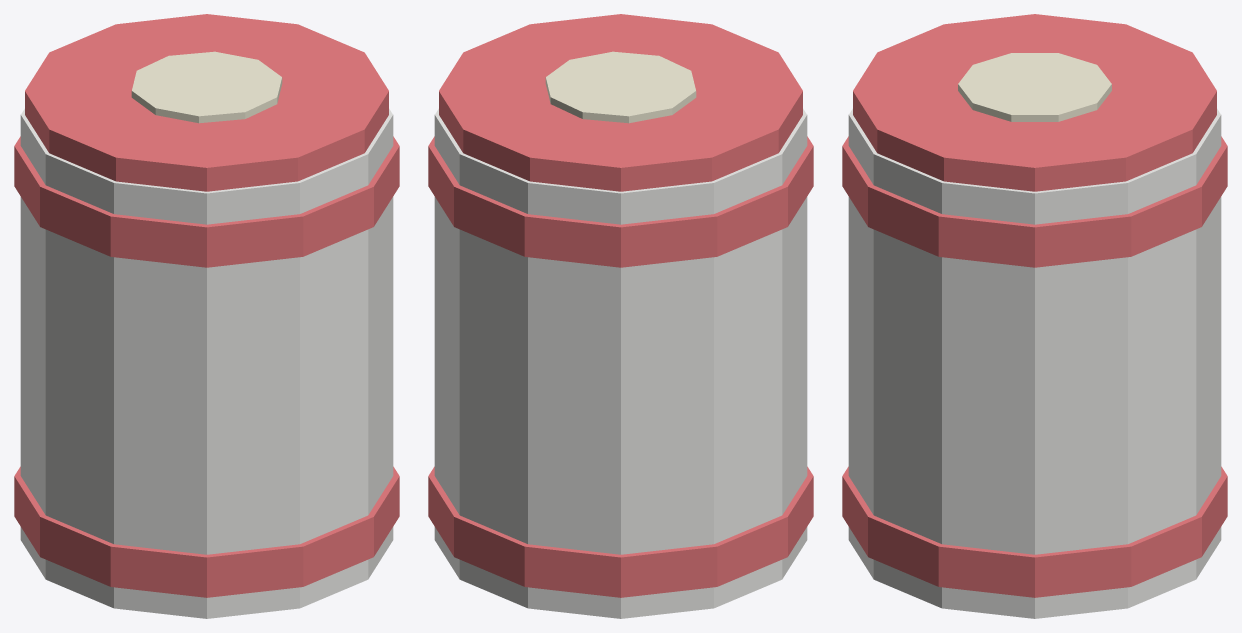
File: FTF_Resource_RawRubber_Barrel_Drop.glb
3 views of the same model, side by side, from view 1: azimuth 30°, elevation 25°; view 2: azimuth 150°, elevation 25°; view 3: azimuth 270°, elevation 25° (orthographic).
Parts seen in each view (by area): view 1: BarrelWhiteBody, TopLid, RedBand.001, RedBand, RubberSeal; view 2: BarrelWhiteBody, TopLid, RedBand.001, RedBand, RubberSeal; view 3: BarrelWhiteBody, TopLid, RedBand.001, RedBand, RubberSeal.
Part boxes in pixels (x1,y1,x2,y2): BarrelWhiteBody: (20, 108, 393, 618); TopLid: (25, 14, 388, 191); RedBand.001: (14, 136, 399, 267); RedBand: (14, 466, 399, 597); RubberSeal: (131, 51, 282, 123); BarrelWhiteBody: (434, 108, 807, 618); TopLid: (439, 14, 802, 191); RedBand.001: (428, 136, 813, 267); RedBand: (428, 466, 813, 597); RubberSeal: (545, 51, 696, 123); BarrelWhiteBody: (848, 108, 1221, 618); TopLid: (853, 14, 1216, 191); RedBand.001: (842, 136, 1227, 267); RedBand: (842, 466, 1227, 597); RubberSeal: (958, 53, 1111, 121).
Bounding box in the file's own units: 0.476 × 0.622 × 0.476.
